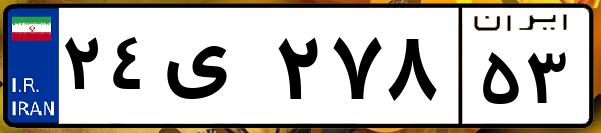2: (270, 28, 330, 110), (57, 26, 110, 100)
3: (525, 38, 570, 115)
4: (110, 28, 158, 98)
5: (475, 38, 525, 113)
7: (330, 28, 385, 110)
8: (385, 28, 445, 110)
ی: (158, 20, 270, 120)
